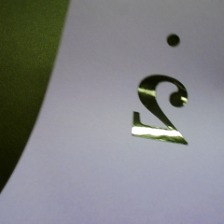violet2: (126, 31, 200, 155)
